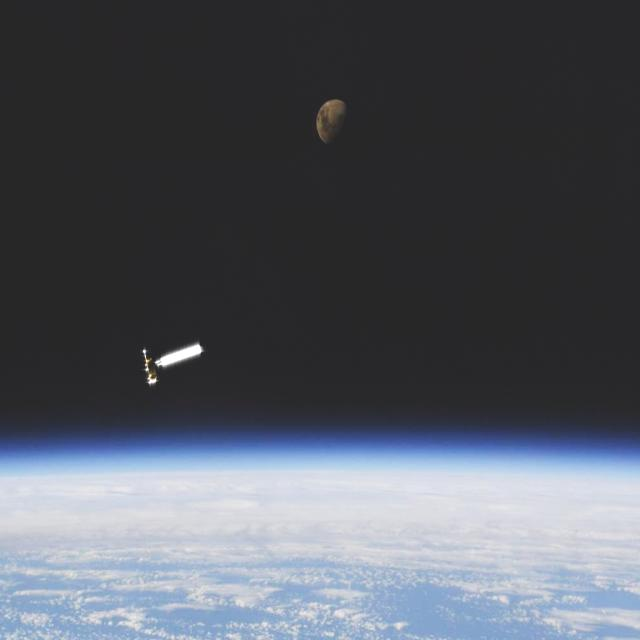satellite: (132, 332, 215, 393)
